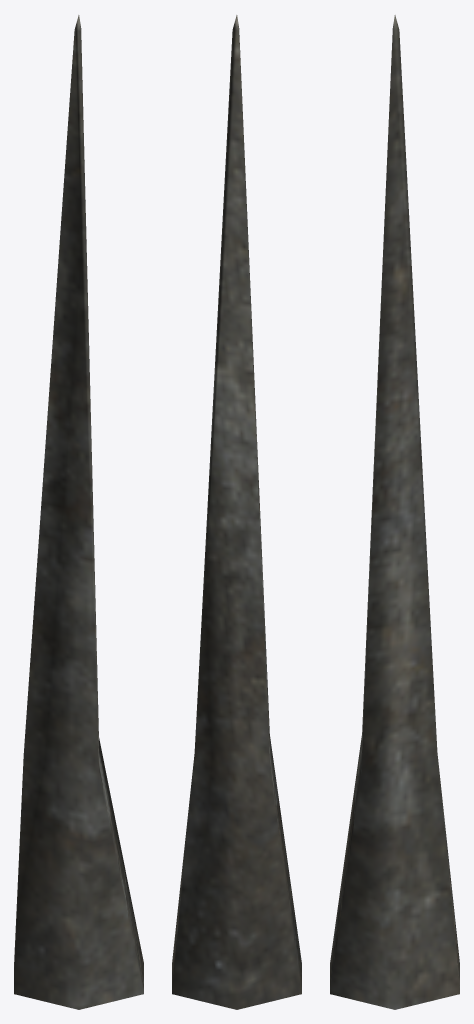
Rendered from Stall_small3.fbx.
The picture shows the model from 3 angles, left to right: view 1: azimuth 30°, elevation 25°; view 2: azimuth 150°, elevation 25°; view 3: azimuth 330°, elevation 25°; orthographic projection.
Parts seen in each view (by area): view 1: pCylinder6; view 2: pCylinder6; view 3: pCylinder6.
Boxes of the visible parts, left/top/right/bottom form: pCylinder6: left=14, top=15, right=143, bottom=1009; pCylinder6: left=172, top=15, right=301, bottom=1009; pCylinder6: left=330, top=15, right=459, bottom=1009.
Size of the model in its own units: 0.5444 by 3.87 by 0.4714.
